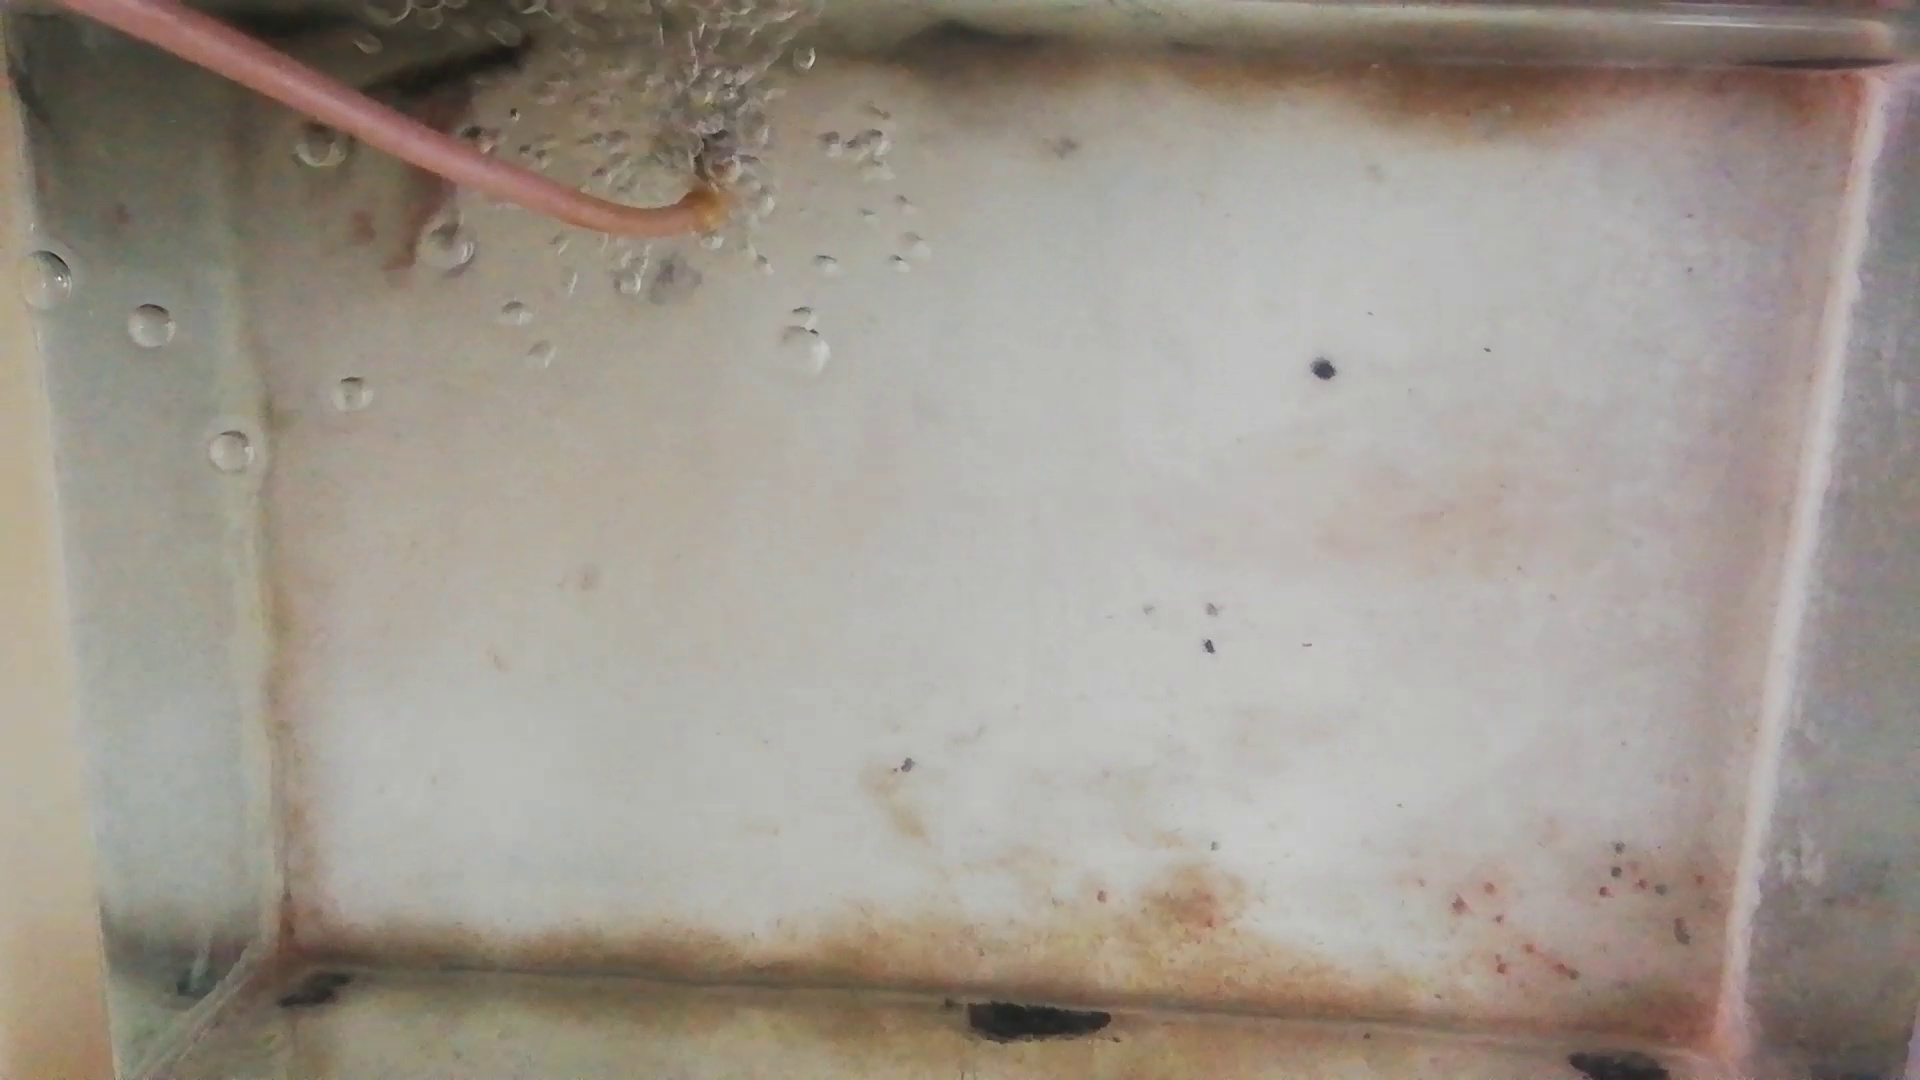fish: (392, 80, 468, 273), (343, 38, 549, 95)
